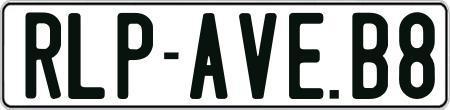8: (397, 10, 432, 99)
A: (187, 12, 229, 99)
B: (352, 11, 389, 101)
E: (287, 12, 327, 98)
L: (66, 10, 105, 98)
P: (116, 10, 155, 102)
R: (25, 10, 62, 103)
V: (237, 13, 276, 103)
